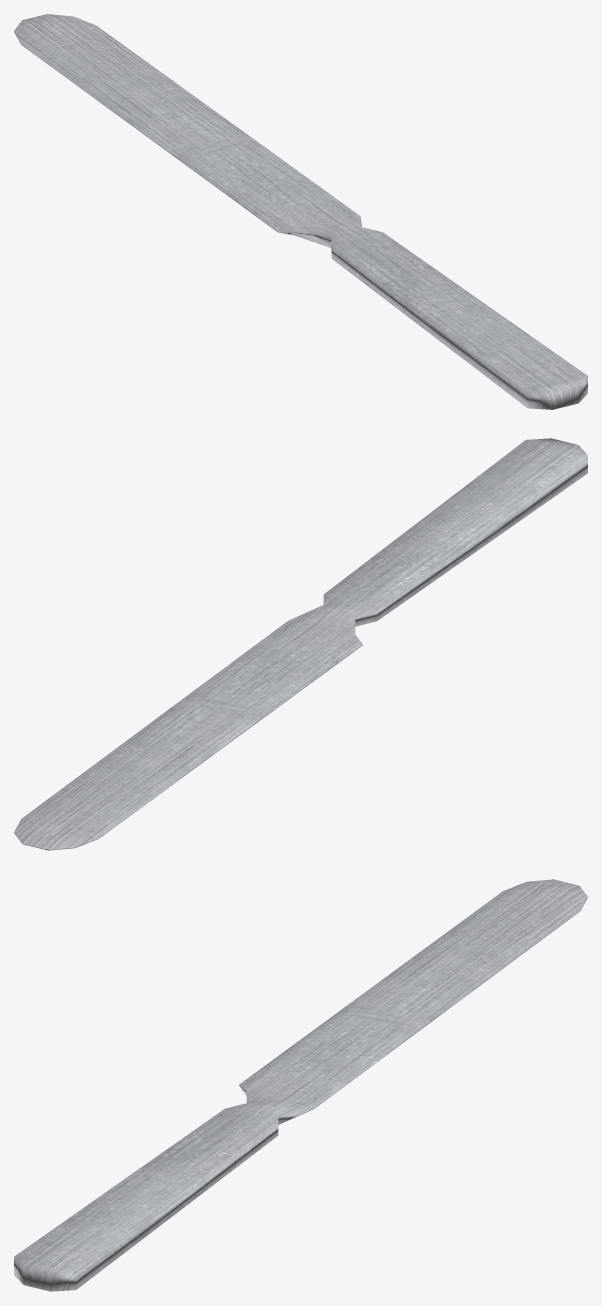
Rendered from SM_SilverwareC.FBX.
3 views of the same model, one above another, from view 1: azimuth 30°, elevation 25°; view 2: azimuth 150°, elevation 25°; view 3: azimuth 330°, elevation 25° (orthographic). The views are drawn at different scales.
Visible parts, largest first — view 1: SM_SilverwareC; view 2: SM_SilverwareC; view 3: SM_SilverwareC.
Part boxes in pixels (<box>): SM_SilverwareC: <box>14,14,587,409</box>; SM_SilverwareC: <box>14,438,587,850</box>; SM_SilverwareC: <box>14,879,587,1291</box>.
Bounding box in the file's own units: 1.78 × 0.3871 × 20.64.
